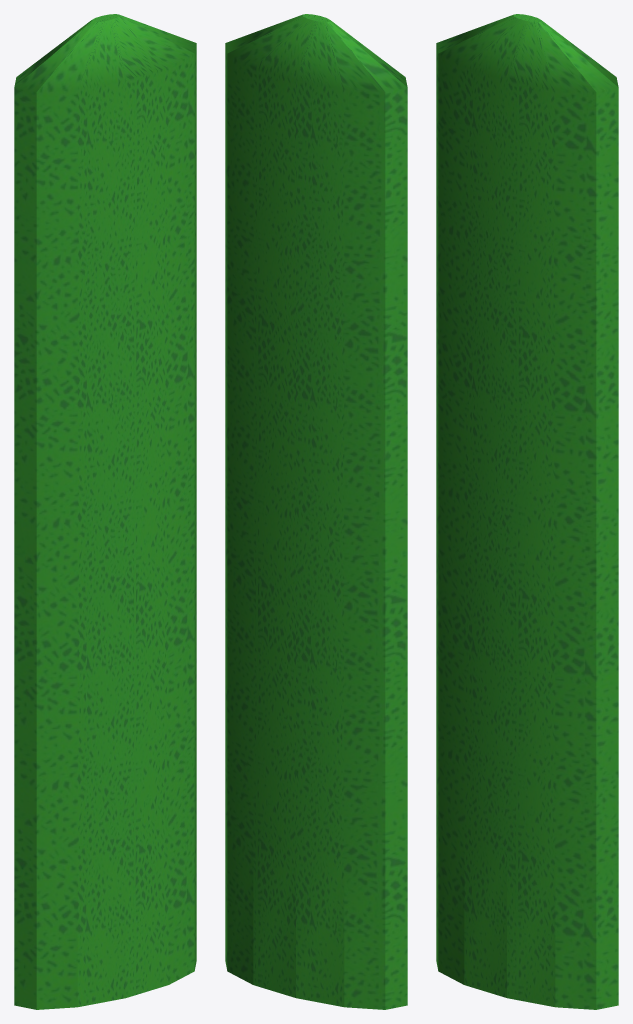
File: grass-5.fbx
3 renders of one model, left to right at view 1: azimuth 30°, elevation 25°; view 2: azimuth 150°, elevation 25°; view 3: azimuth 330°, elevation 25°, orthographic.
Visible parts, largest first — view 1: pCylinder7; view 2: pCylinder7; view 3: pCylinder7.
Boxes of the visible parts, box(x1,y1,x2,y2) form: pCylinder7: box(14, 14, 196, 1009); pCylinder7: box(225, 14, 407, 1009); pCylinder7: box(436, 14, 618, 1009).
Size of the model in its own units: 1.24 by 6.28 by 0.4818.
Materials: 1 (1 with a texture image).
